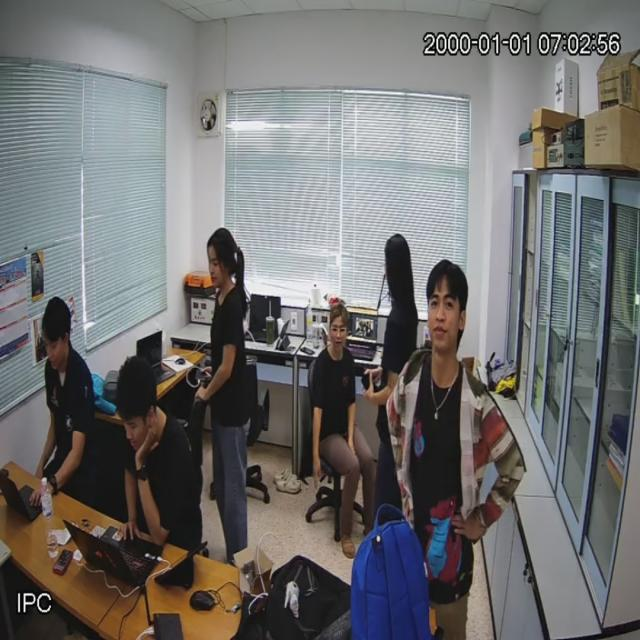normal: (392, 264, 522, 640), (198, 230, 256, 548), (307, 306, 375, 558), (112, 357, 186, 559), (34, 297, 94, 513)
